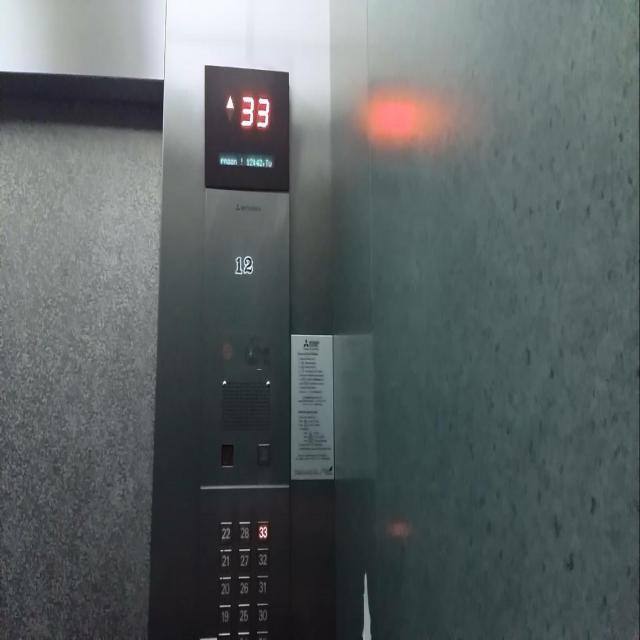19: (218, 602, 232, 628)
20: (218, 575, 231, 597)
21: (219, 547, 232, 571)
22: (219, 520, 232, 544)
25: (237, 603, 251, 625)
26: (237, 574, 250, 598)
27: (237, 547, 251, 570)
28: (238, 520, 251, 542)
30: (256, 602, 269, 624)
31: (256, 574, 269, 597)
32: (256, 547, 270, 570)
33: (256, 520, 269, 542)
alarm: (257, 442, 269, 468)
empty: (220, 442, 233, 467)
led: (201, 61, 291, 196)
